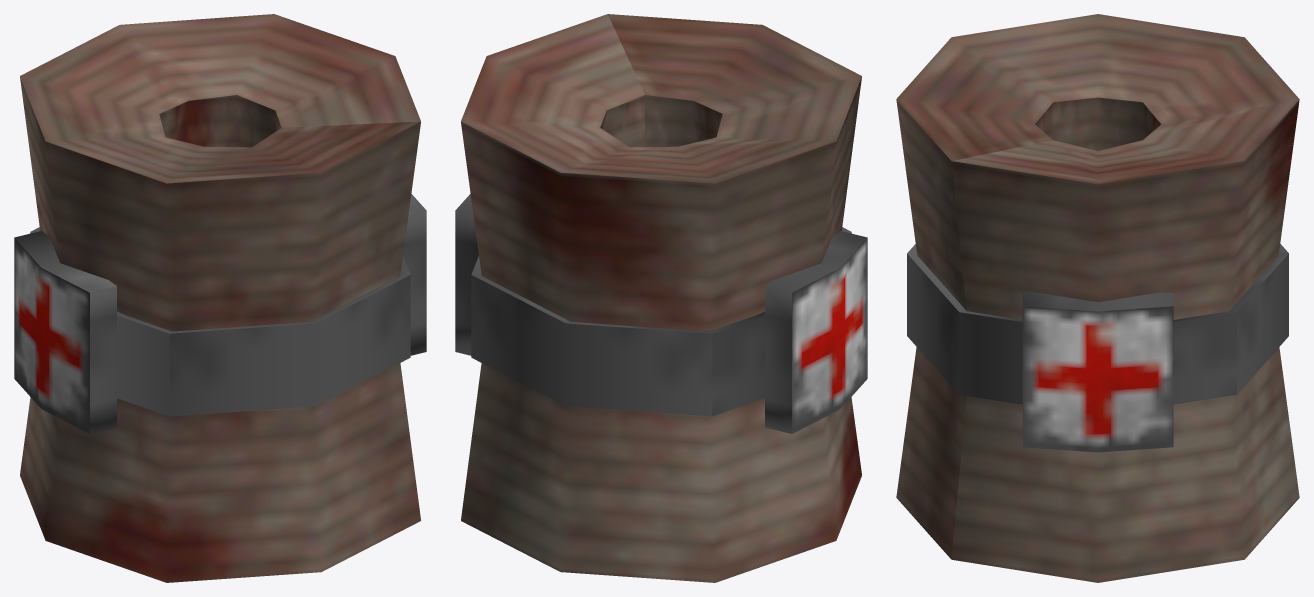
File: Bandage.fbx
3 views of the same model, side by side, from view 1: azimuth 30°, elevation 25°; view 2: azimuth 150°, elevation 25°; view 3: azimuth 270°, elevation 25° (orthographic).
Visible parts, largest first — view 1: bandage; view 2: bandage; view 3: bandage.
Part boxes in pixels (bbox=[...]): bandage: bbox=[14, 14, 426, 582]; bandage: bbox=[455, 14, 867, 582]; bandage: bbox=[896, 14, 1299, 582].
Size of the model in its own units: 65.5 by 69.8 by 64.01.
